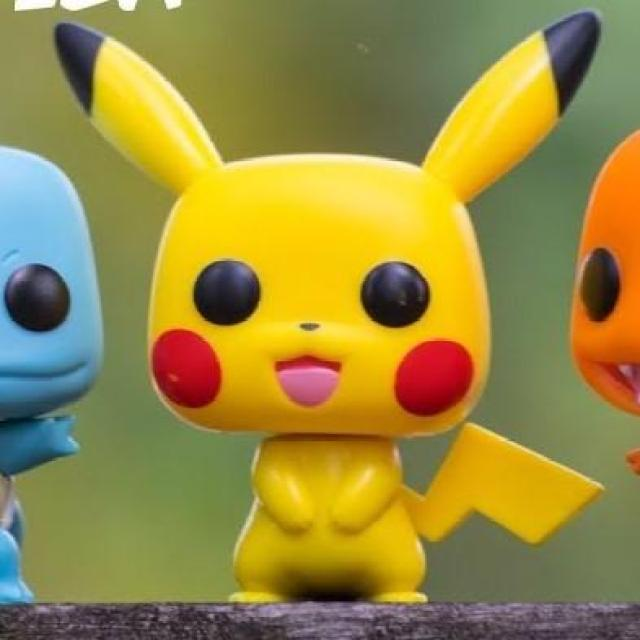pikachu: (57, 11, 606, 604)
